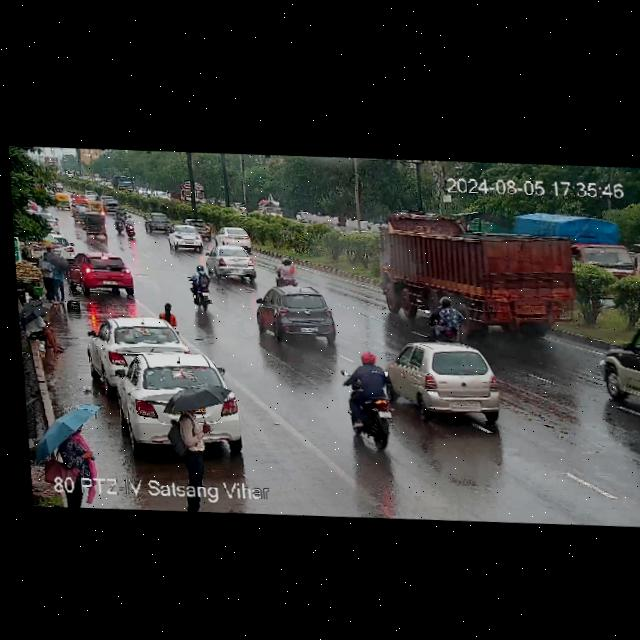car: (386, 337, 508, 425), (118, 350, 226, 414), (87, 312, 182, 377), (252, 283, 343, 347), (600, 309, 640, 408), (67, 249, 135, 296), (203, 244, 259, 281), (166, 223, 204, 251), (29, 236, 73, 260), (216, 220, 249, 248), (80, 212, 108, 237), (179, 215, 210, 237), (32, 210, 60, 232), (144, 213, 173, 234), (100, 196, 124, 212), (86, 200, 108, 214), (53, 191, 70, 209), (71, 204, 87, 220), (72, 192, 87, 204), (85, 189, 97, 199)
motorcycle: (339, 350, 398, 449), (427, 293, 467, 343), (184, 264, 222, 315), (275, 256, 300, 285), (121, 218, 137, 239), (113, 208, 129, 226)
person: (175, 404, 215, 484), (62, 419, 96, 473), (24, 311, 63, 352), (38, 253, 52, 300), (52, 264, 67, 306), (159, 300, 178, 327)
truck: (375, 217, 593, 338), (516, 209, 640, 277), (165, 180, 207, 203), (257, 197, 284, 218), (112, 177, 134, 192)
